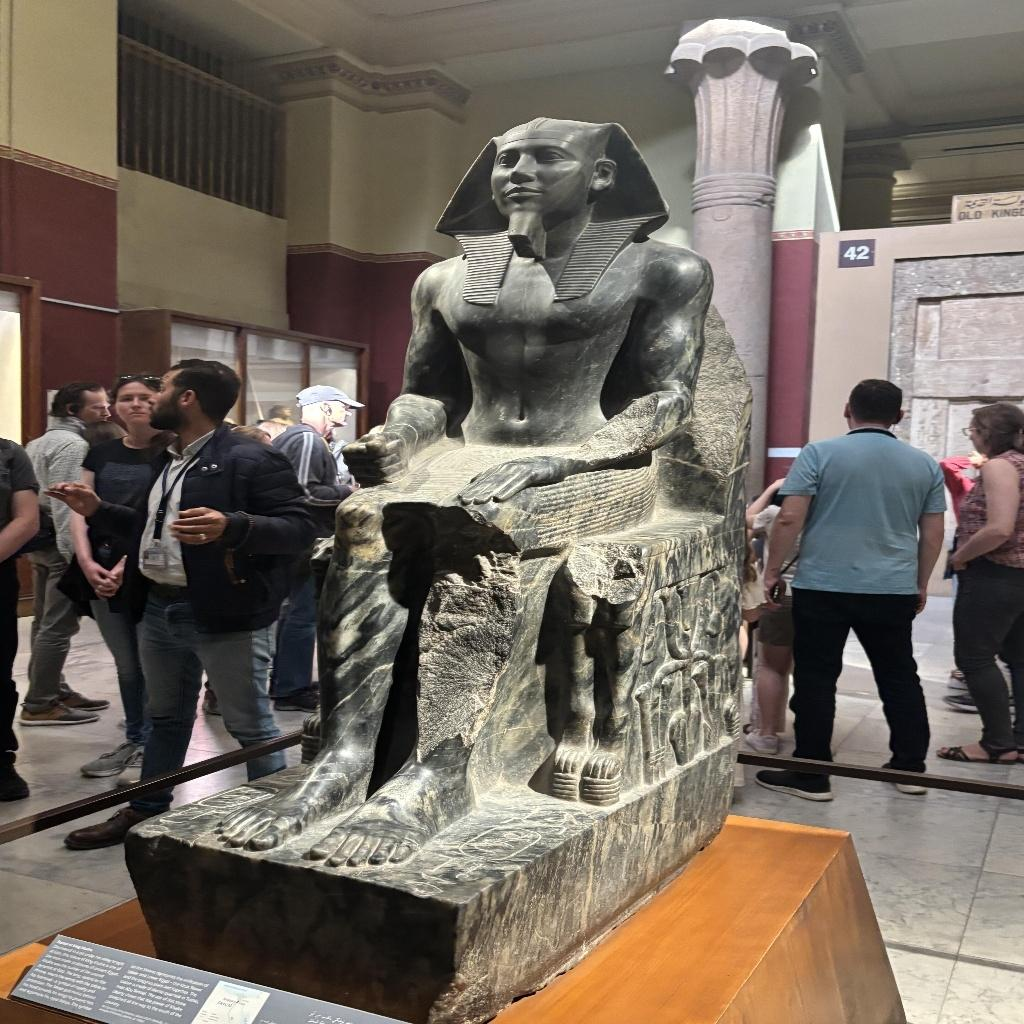Statue of Khafre: (213, 116, 746, 868)
